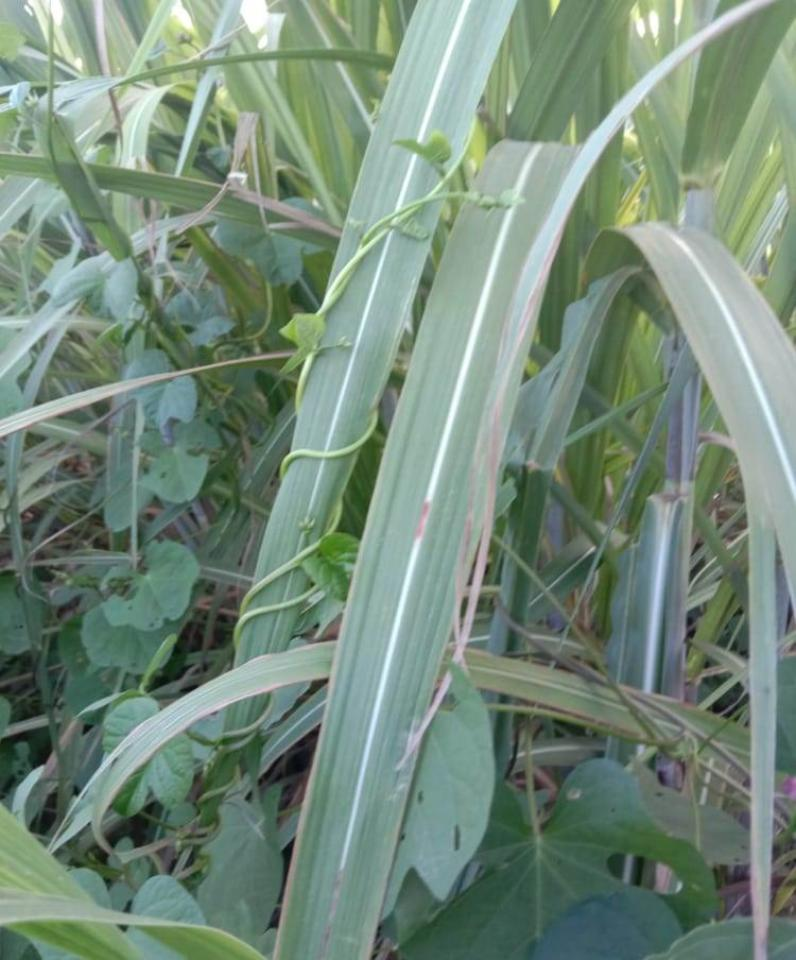RedRot: (318, 861, 347, 959), (415, 498, 431, 545)
